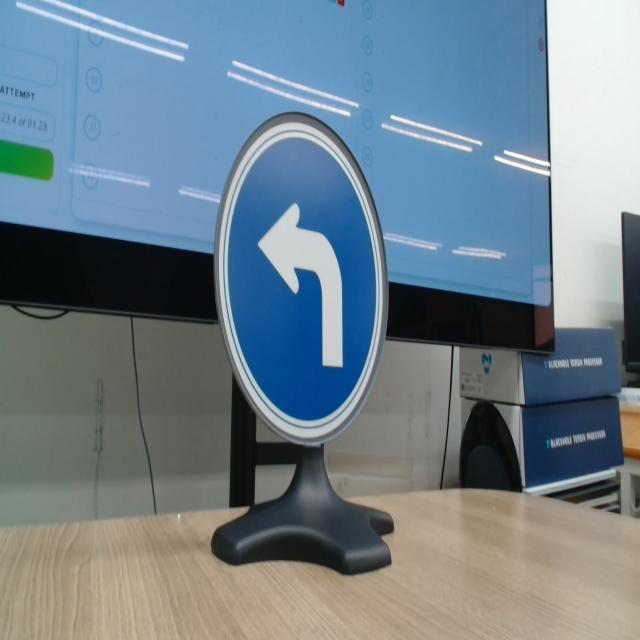left_direction: (213, 95, 409, 451)
